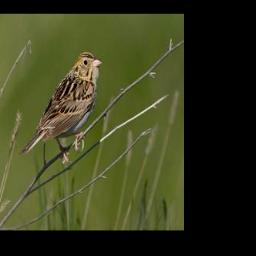Sparrow: (19, 51, 103, 165)
